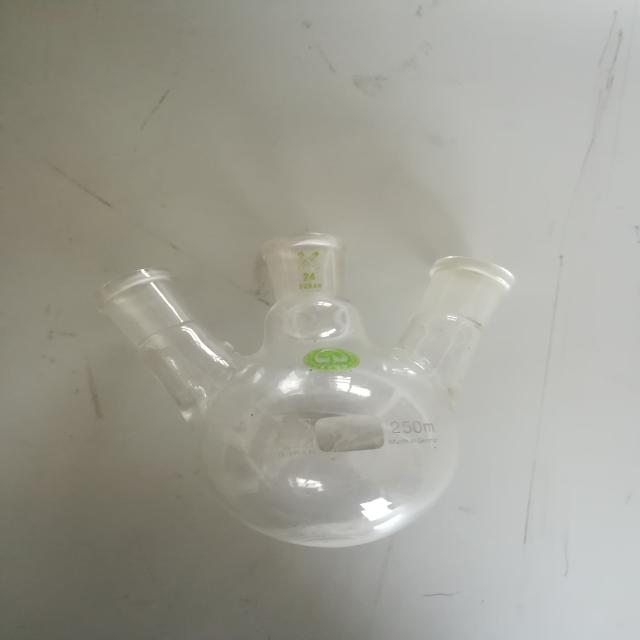Round_Bottom_Flask_Borosilicate_Glass_3_Neck: (74, 200, 569, 580)
